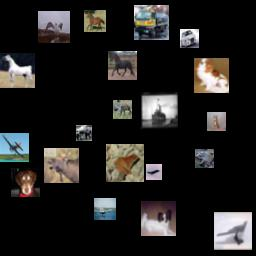airplane: (214, 212, 252, 250), (0, 133, 29, 162), (94, 198, 116, 220), (146, 164, 162, 180)
automobile: (180, 29, 199, 48)
bird: (38, 11, 70, 43)
cat: (207, 112, 226, 131)
deer: (44, 148, 79, 183), (113, 100, 132, 119)
dog: (194, 58, 229, 93), (141, 201, 176, 236), (11, 168, 40, 197)
frog: (106, 144, 144, 182), (195, 149, 214, 168)
ship: (140, 92, 178, 130)
truck: (134, 5, 169, 40), (76, 125, 92, 141)
